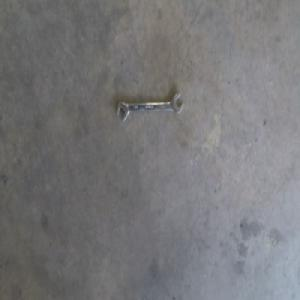Wrench: (116, 99, 183, 126)
